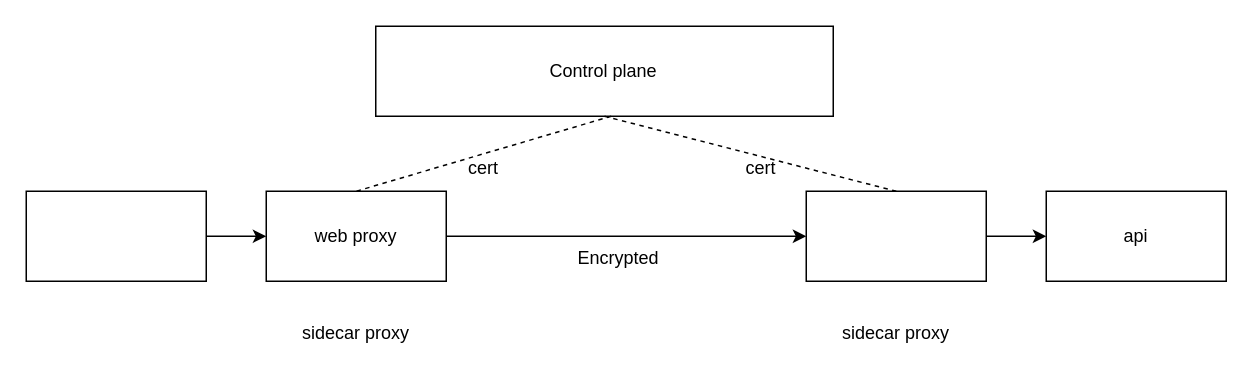
This 1253x383 diagram has some shape labels left out. Here are the shapes that lost their labels. From the top down, the box of each, then its label:
(25, 190, 206, 281): Frontend
(805, 190, 986, 281): api proxy
